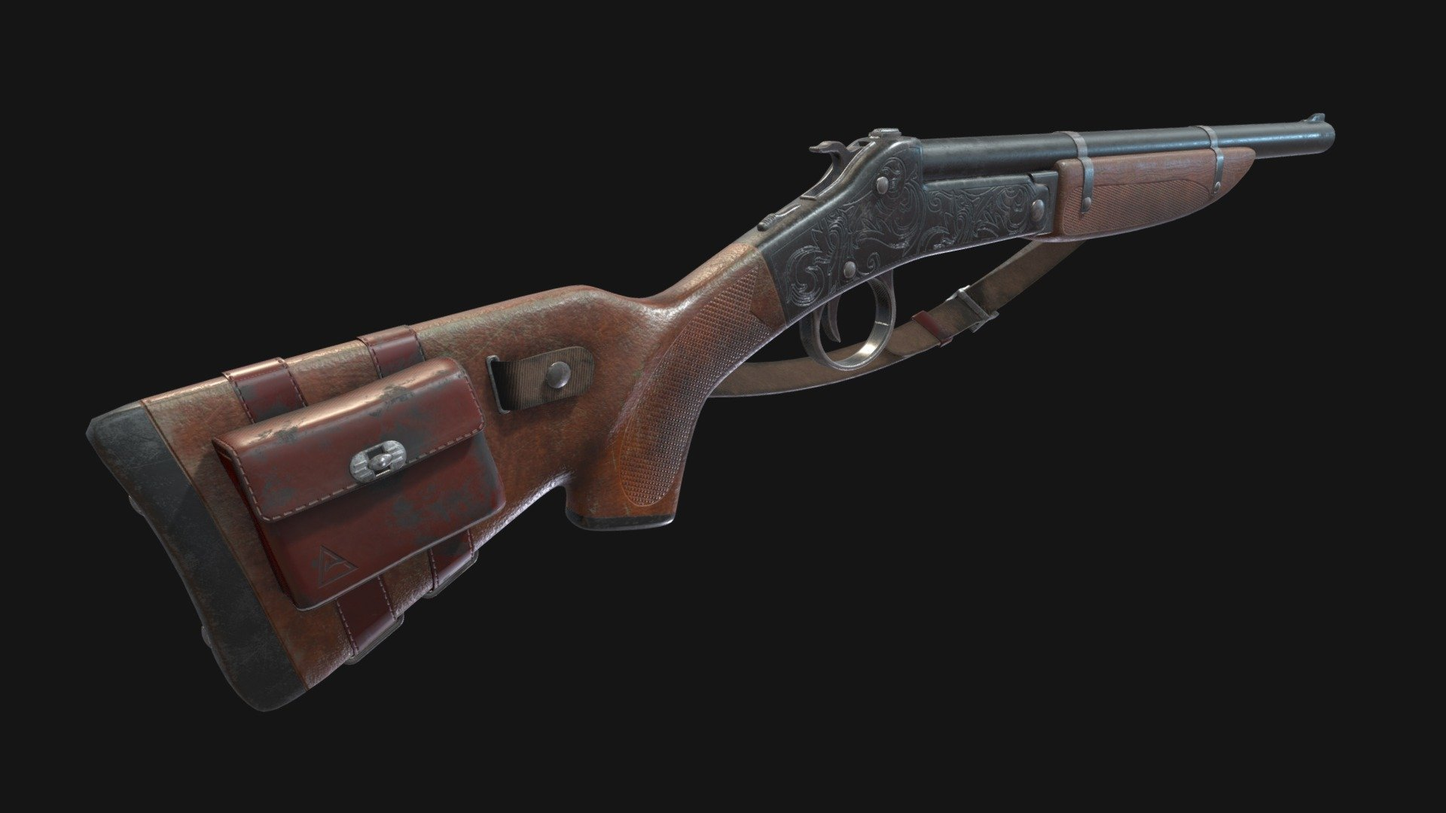GUN: (75, 108, 1347, 720)
